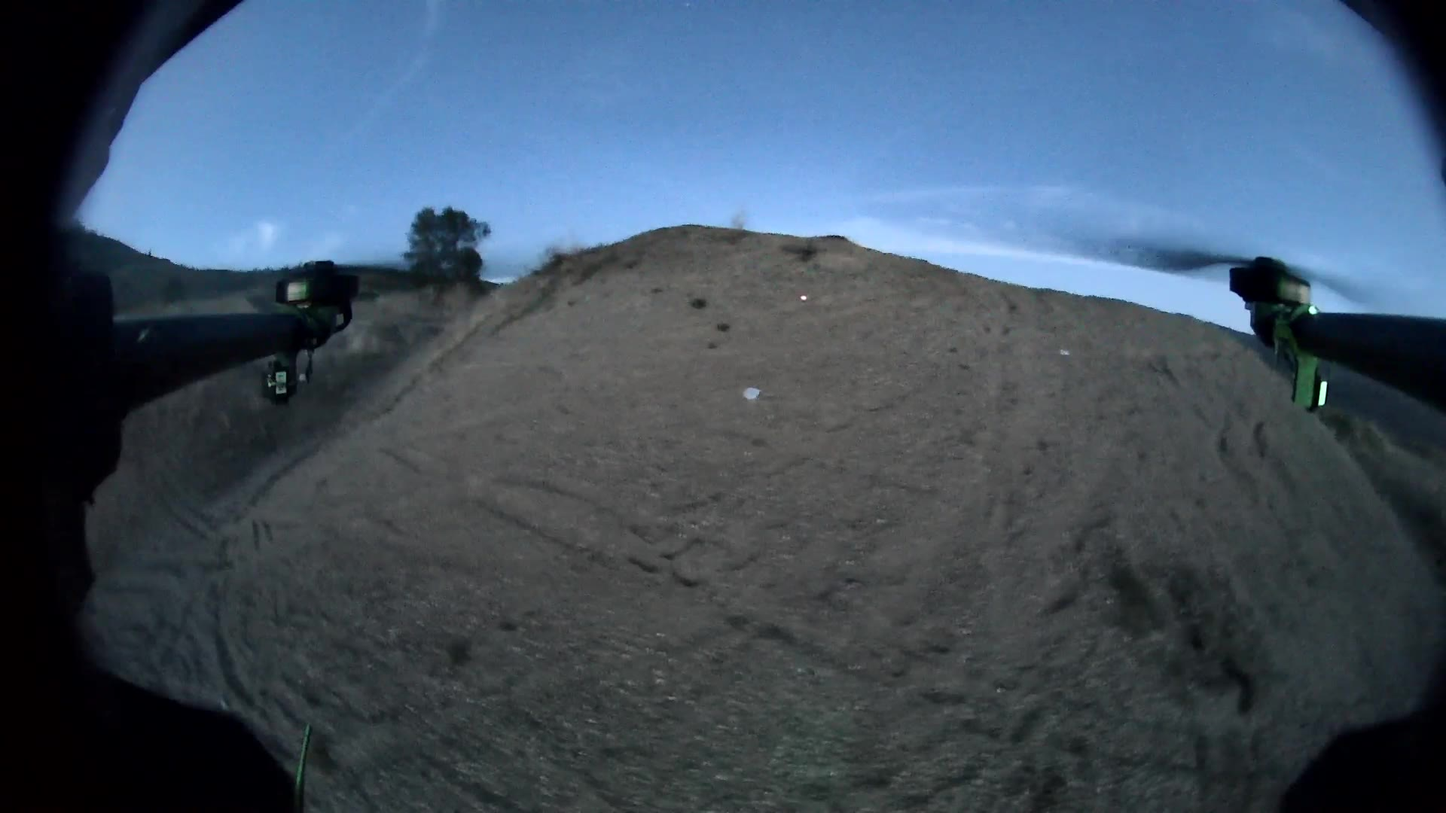Target: (742, 387, 761, 400)
